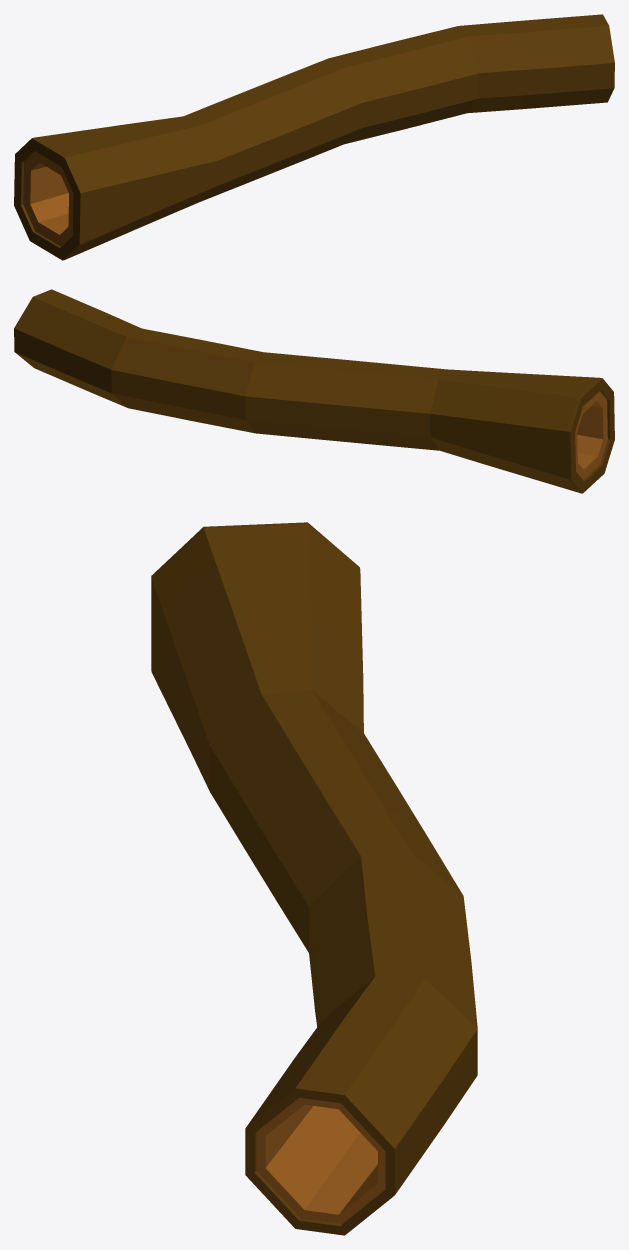
The model's file is Log.fbx.
3 views of the same model, one above another, from view 1: azimuth 30°, elevation 25°; view 2: azimuth 150°, elevation 25°; view 3: azimuth 270°, elevation 25° (orthographic). The views are drawn at different scales.
Visible parts, largest first — view 1: Log; view 2: Log; view 3: Log.
Boxes of the visible parts, <box> form: Log: <box>14,14,614,260</box>; Log: <box>14,289,614,493</box>; Log: <box>151,522,477,1235</box>.
Bounding box in the file's own units: 2.73 × 0.4528 × 0.7046.
